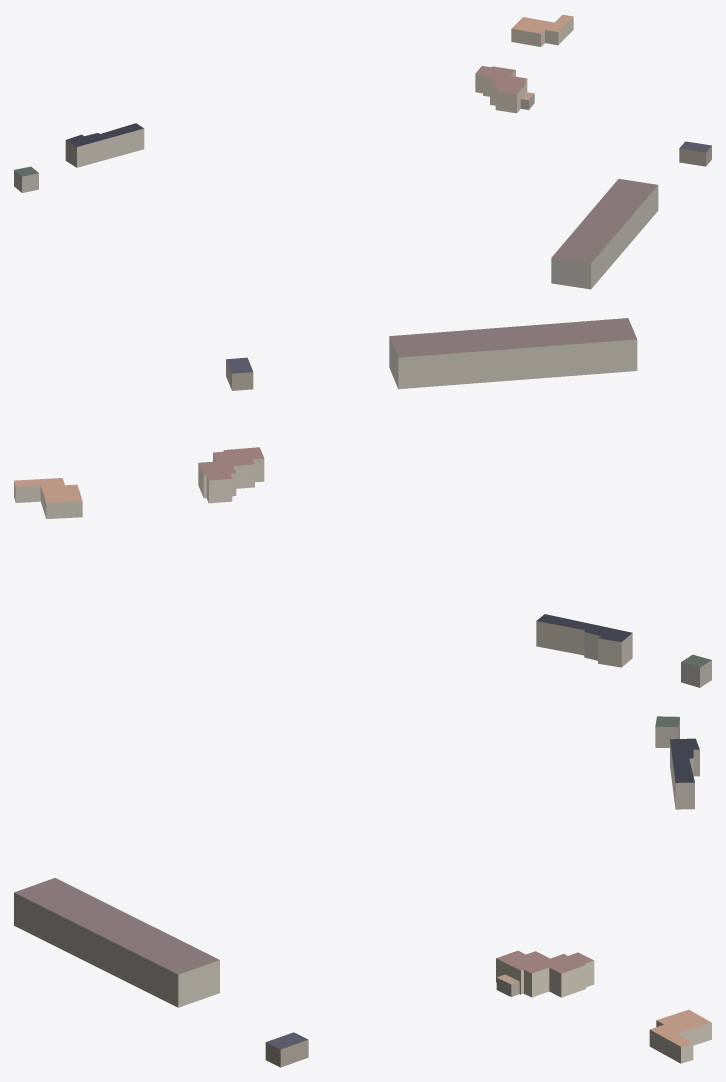
3 renders of one model, top to bottom at view 1: azimuth 30°, elevation 25°; view 2: azimuth 150°, elevation 25°; view 3: azimuth 270°, elevation 25°, orthographic. The views are drawn at different scales.
Parts seen in each view (by area): view 1: tuile; view 2: tuile; view 3: tuile.
Boxes of the visible parts, <box> form: tuile: <box>14,14,711,289</box>; tuile: <box>14,318,711,687</box>; tuile: <box>14,716,711,1067</box>.
Bounding box in the file's own units: 206 × 13.65 × 172.
